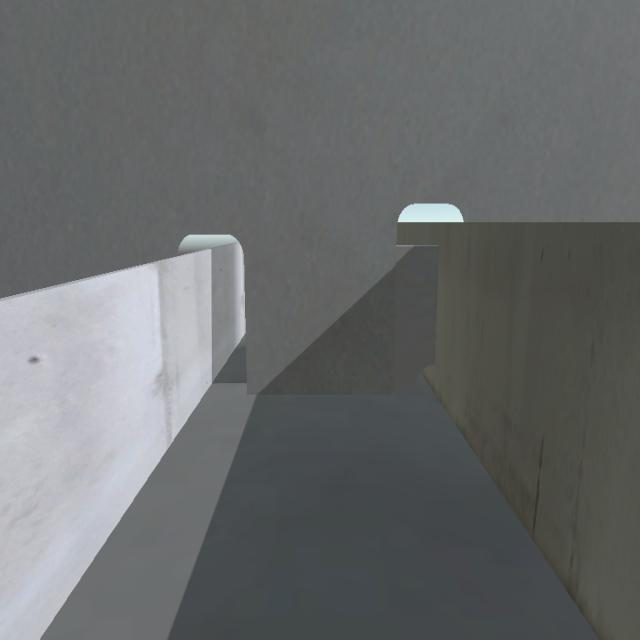fillet_hole: (416, 366, 438, 394)
fillet_yong_jeop_jang: (236, 391, 414, 395)
longi_yong_jeop_jang: (432, 247, 441, 360)
plate_behind: (395, 243, 440, 397)
